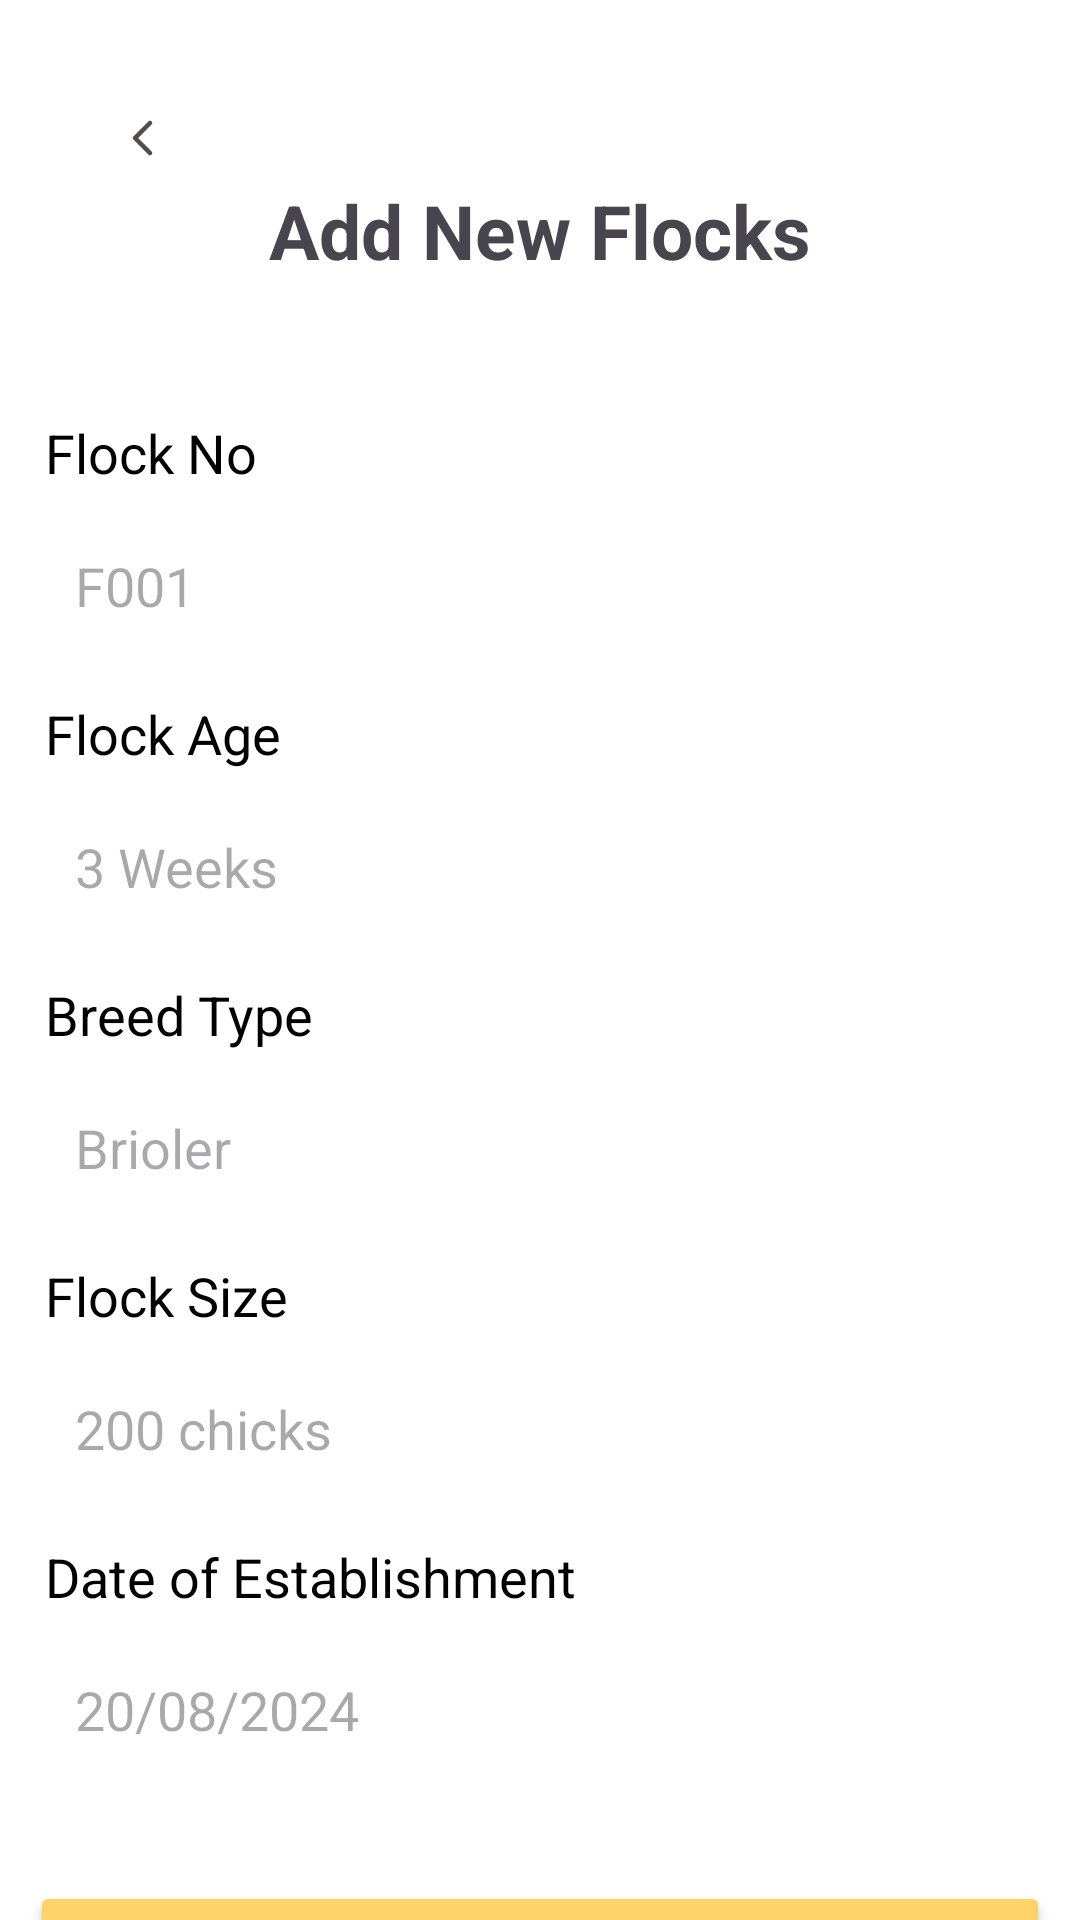

Screen size 1080x1920. Icon name, then its center in pixels as (x=x, y=y):
leftdirect: (x=142, y=138)
